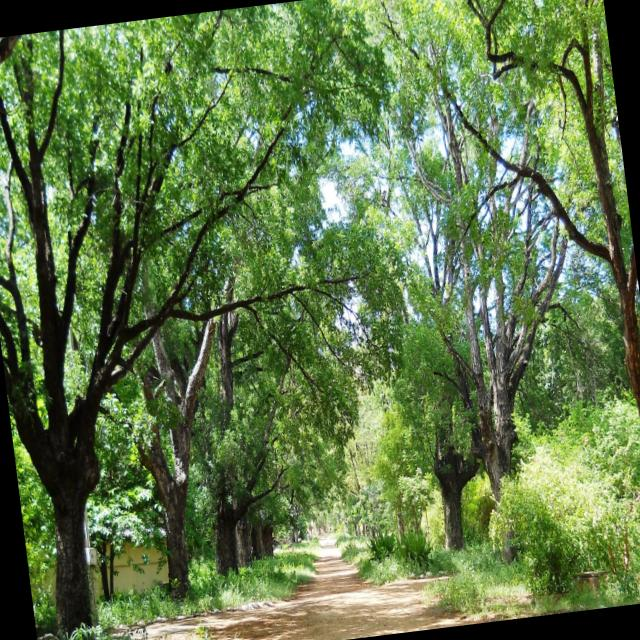Medicinal-Neem: (0, 41, 155, 613), (136, 206, 362, 533), (94, 5, 379, 201), (416, 0, 580, 312), (364, 224, 504, 452)
